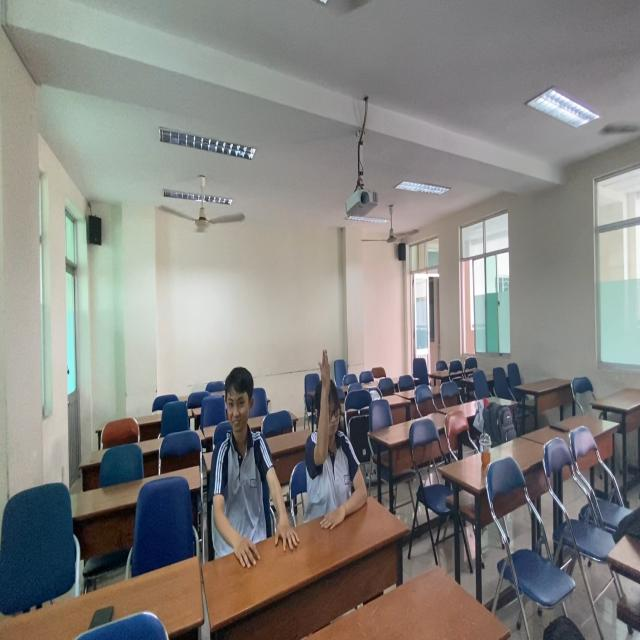raise_hand: (299, 350, 375, 532)
